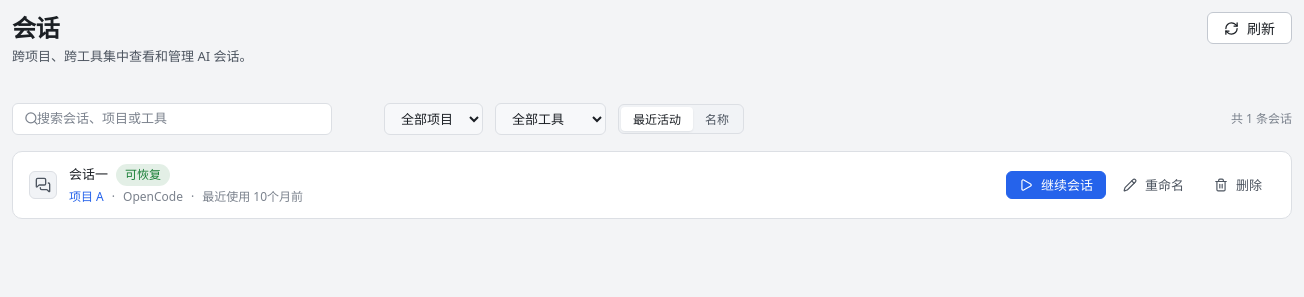
Test: 会话中心 › 原生同步部分失败时给出警告并仍重读列表
Expected: the button "继续会话" is shown, [1006,171,1106,199]
Click the button "刷新" at (1250,28), box [1207,12,1292,44]
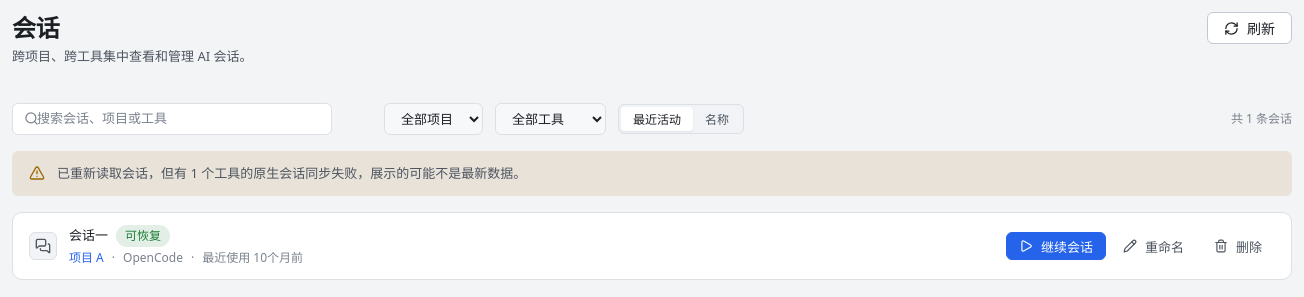
Expected: the text "已重新读取会话，但有 1 个工具的原生会话同步失败，展示的可能不是最新数据。" is shown, [57,164,526,183]
